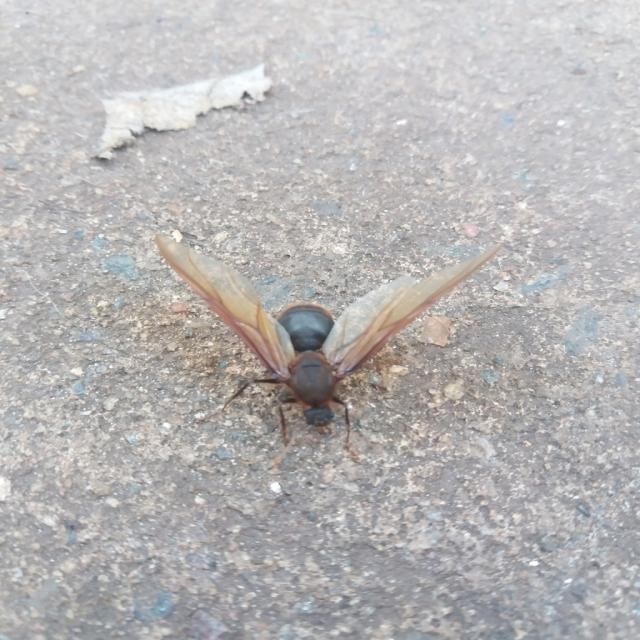Alive-Male-Alate: (152, 232, 506, 466)
